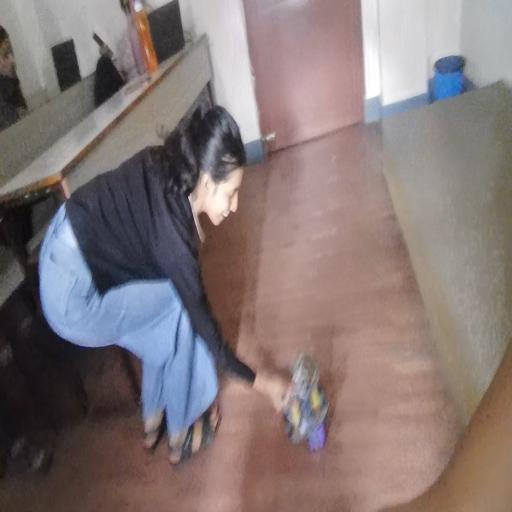car: (298, 365, 336, 425)
